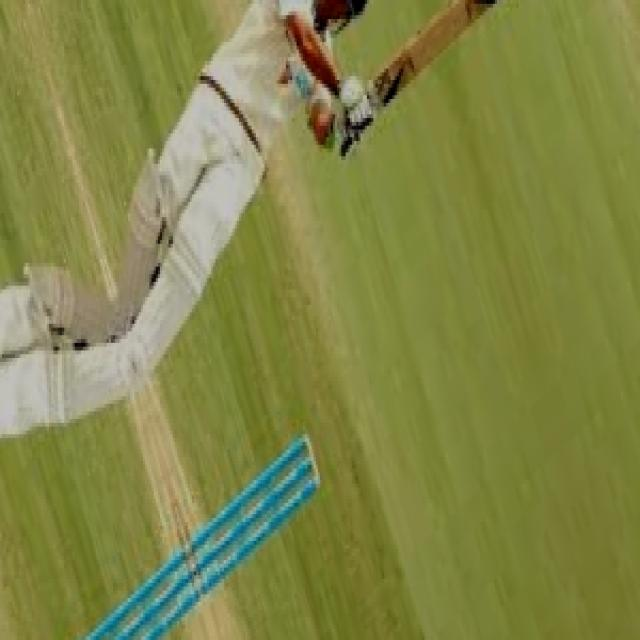toe: (438, 0, 459, 46)
